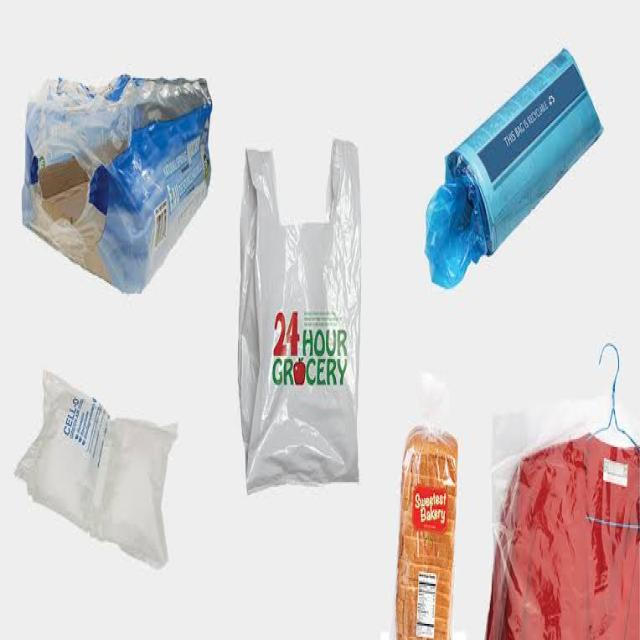residual: (234, 125, 376, 505), (14, 56, 215, 306), (415, 38, 611, 290), (10, 348, 194, 594), (485, 396, 640, 640), (393, 368, 465, 640)
